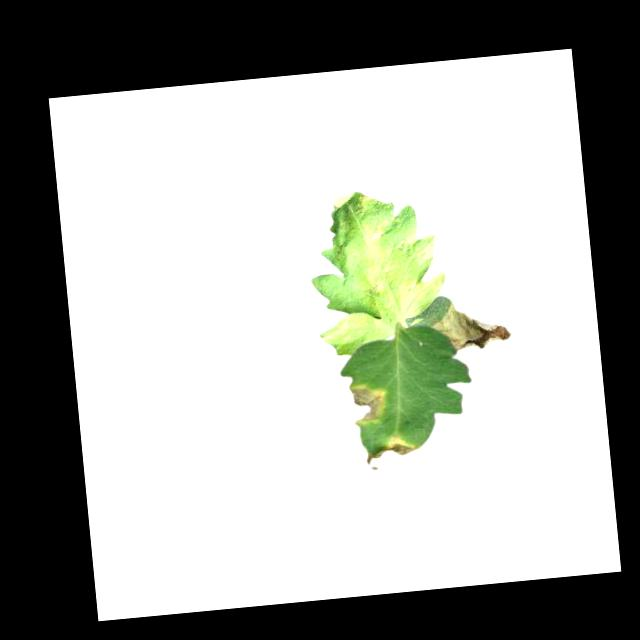Late_blight: (429, 295, 515, 357), (347, 379, 390, 427), (365, 433, 418, 471), (360, 277, 387, 301), (352, 191, 375, 216), (367, 220, 387, 243)
